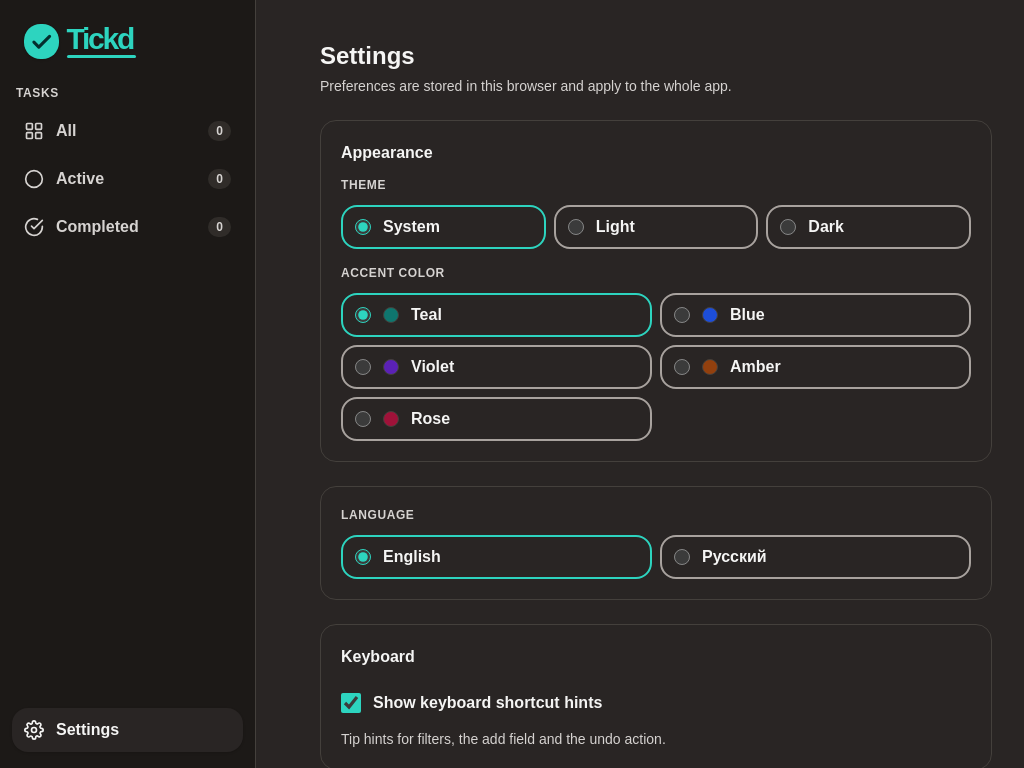
keyboard hint preference › hides every hint on the task list once disabled
This screenshot has width=1024, height=768.
What coordinates should you click on to do the following:
click the checkbox labelled "Show keyboard shortcut hints"
I would click on:
 (351, 703)
Its box is x1=341 y1=693 x2=361 y2=713.
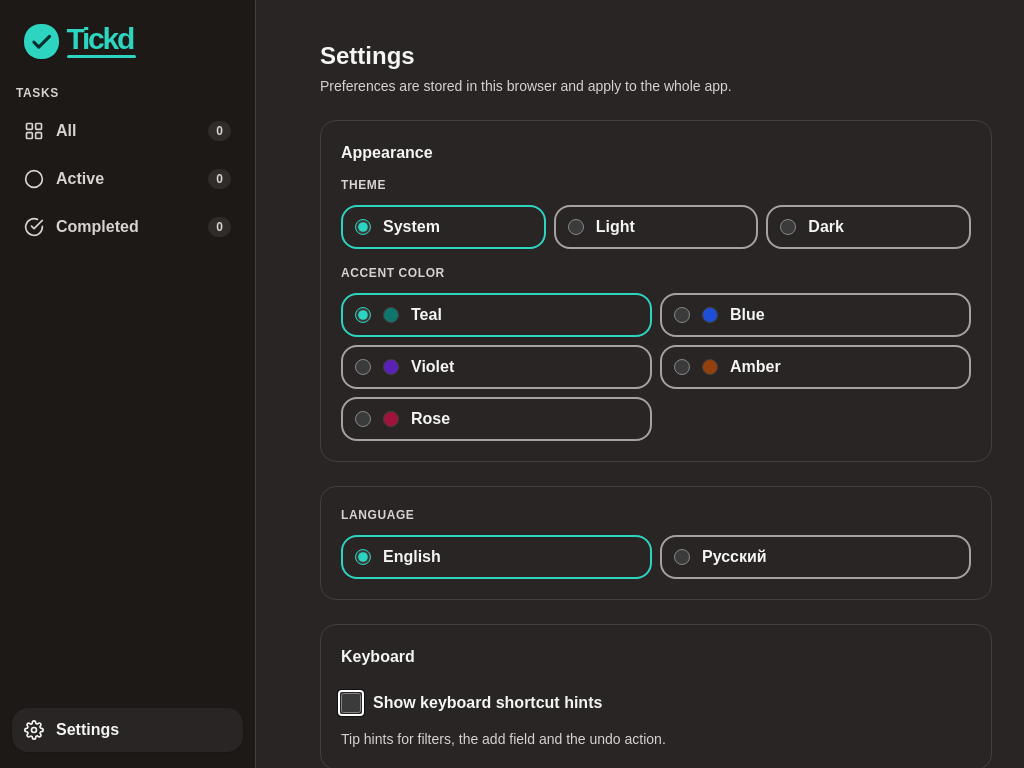
What coordinates should you click on to do the following:
click the link "All 0"
I would click on:
 (34, 131)
Its box is x1=24 y1=121 x2=231 y2=141.
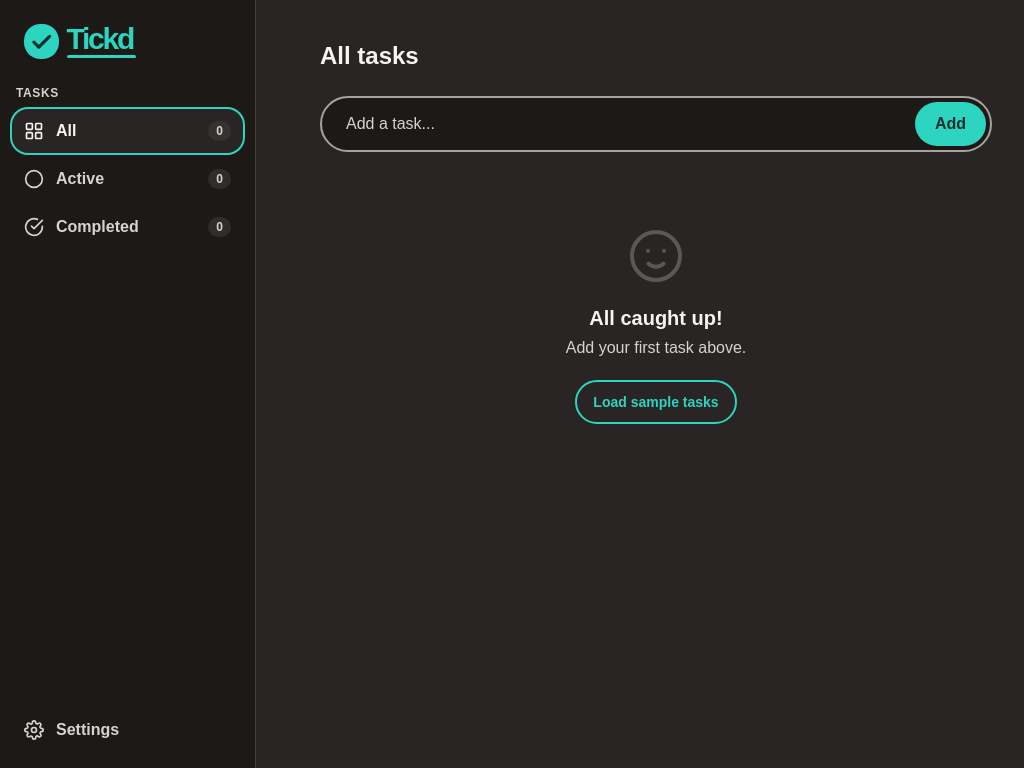
Result: the text "Add your first task above." is shown at x1=566 y1=336 x2=746 y2=360
